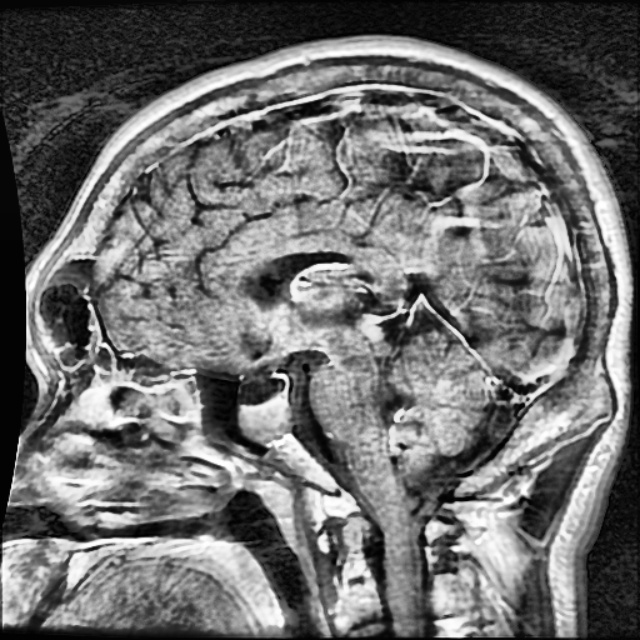Pituitary: (242, 399, 288, 440)
